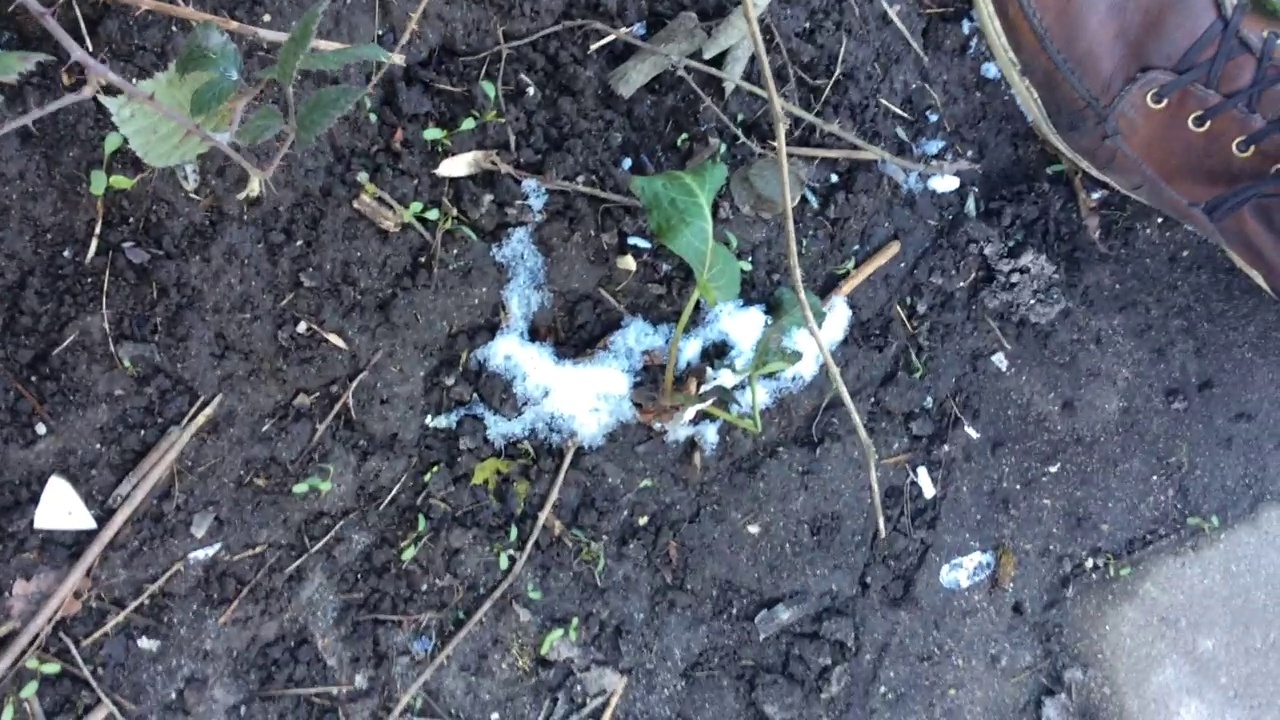root: (645, 372, 711, 423)
rumex: (619, 152, 816, 455)
